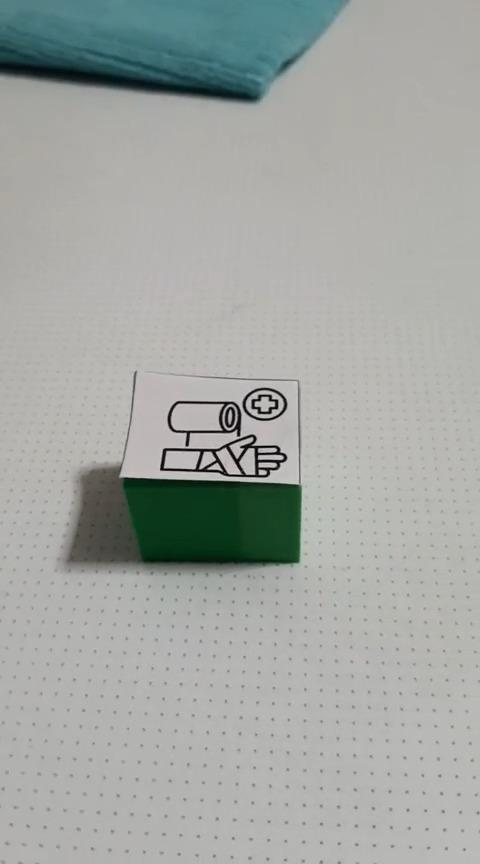Bandages: (0, 0, 352, 102), (117, 369, 302, 563)
